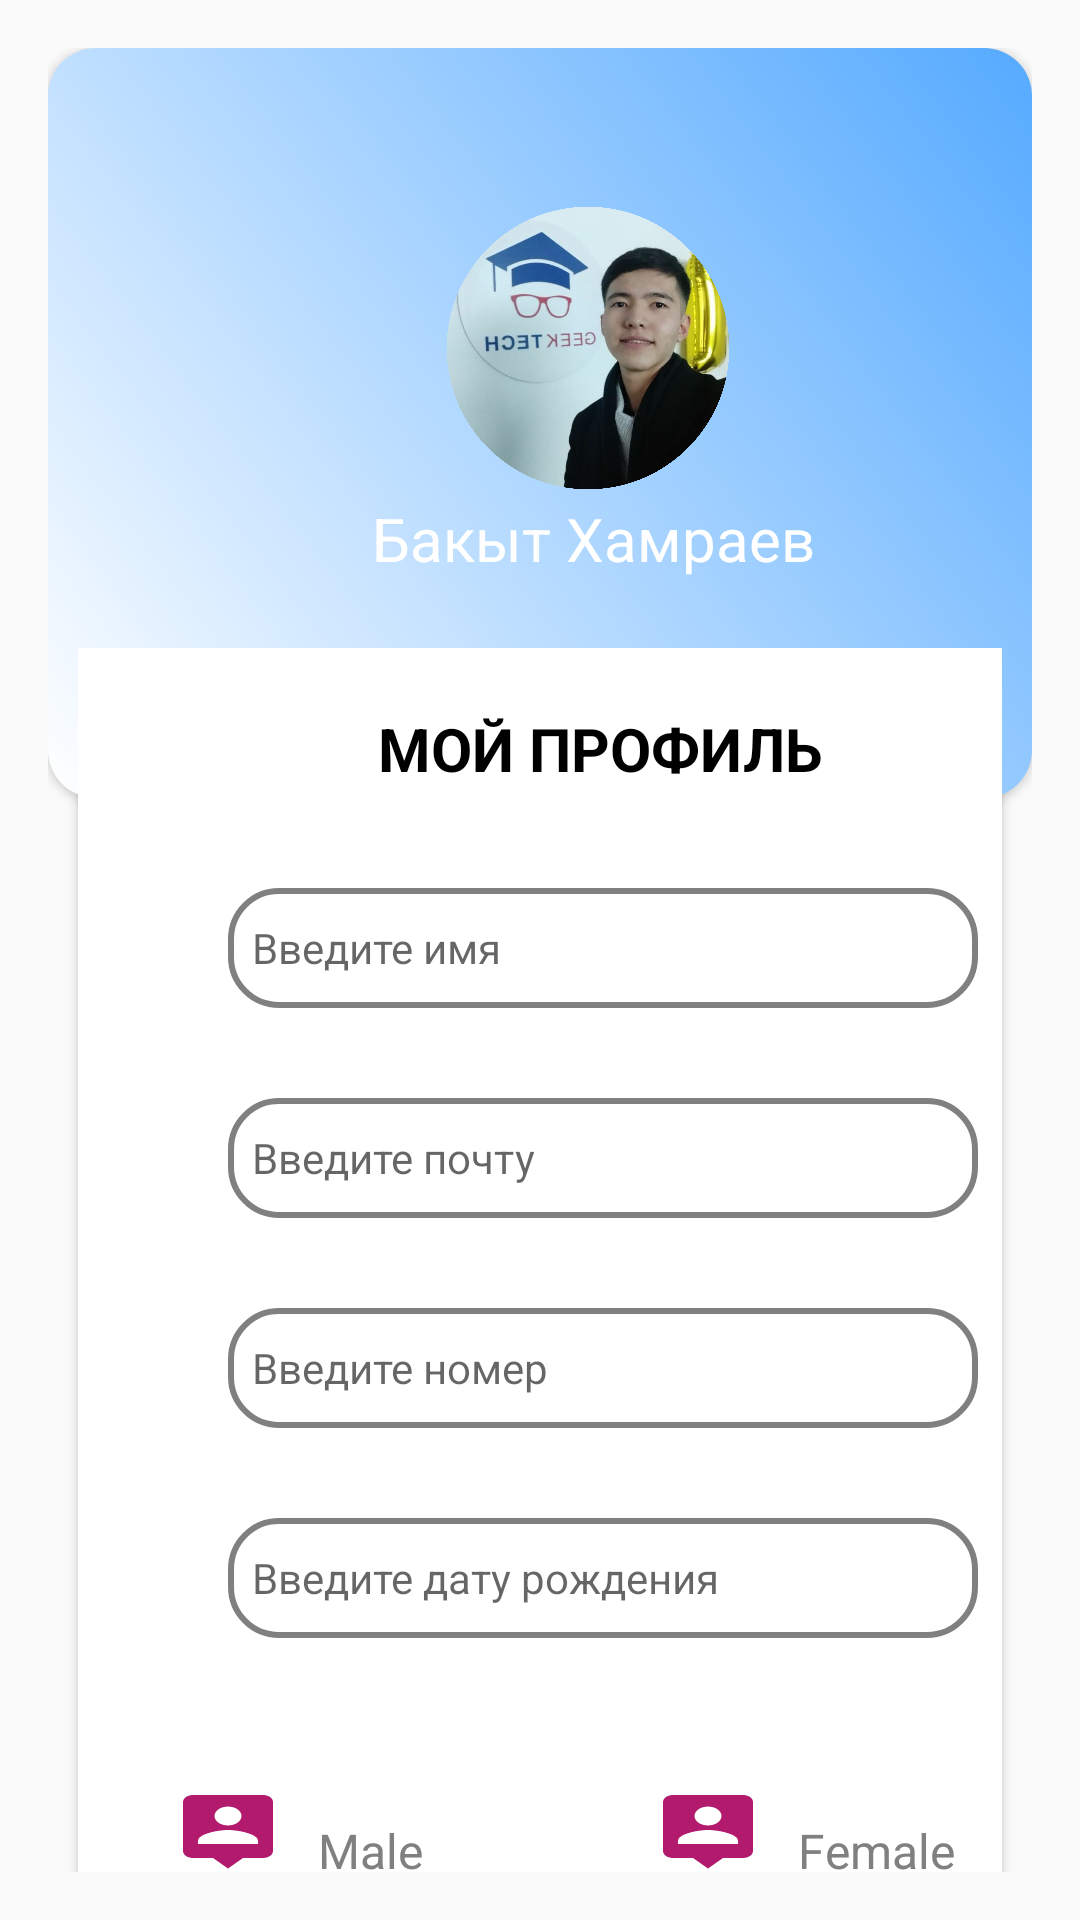

Screen size 1080 x 1920. Icon name, then its center in pixels as (x,y):
person: (228,1832), (708,1832)
